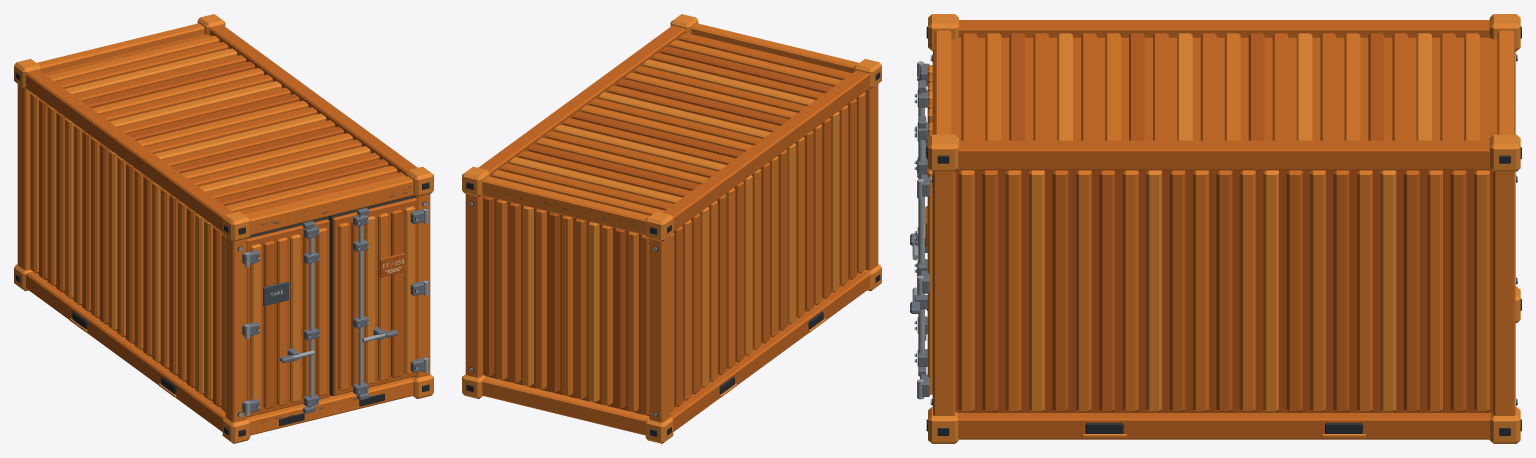
The model's file is wsc-prop-058-shipping-container.glb.
The picture shows the model from 3 angles, left to right: view 1: azimuth 30°, elevation 25°; view 2: azimuth 150°, elevation 25°; view 3: azimuth 270°, elevation 25°; orthographic projection. The views are drawn at different scales.
Parts seen in each view (by area): view 1: orange4, orange, orange3, orange2, steel, bright, deep, gasket, gray; view 2: orange, orange4, orange3, orange2, deep; view 3: orange4, orange, orange2, orange3, steel, bright, deep.
Part boxes in pixels (x1=…): orange4: x1=26, y1=25, x2=417, y2=431; orange: x1=17, y1=23, x2=430, y2=435; orange3: x1=14, y1=14, x2=433, y2=443; orange2: x1=37, y1=61, x2=405, y2=407; steel: x1=242, y1=207, x2=424, y2=413; bright: x1=238, y1=202, x2=428, y2=416; deep: x1=15, y1=72, x2=429, y2=436; gasket: x1=247, y1=195, x2=414, y2=395; gray: x1=263, y1=281, x2=288, y2=305; orange: x1=465, y1=23, x2=878, y2=435; orange4: x1=478, y1=25, x2=869, y2=431; orange3: x1=462, y1=14, x2=881, y2=443; orange2: x1=483, y1=46, x2=858, y2=415; deep: x1=466, y1=72, x2=880, y2=436; orange4: x1=927, y1=20, x2=1497, y2=439; orange: x1=927, y1=30, x2=1515, y2=415; orange2: x1=925, y1=33, x2=1492, y2=412; orange3: x1=927, y1=14, x2=1520, y2=443; steel: x1=910, y1=63, x2=929, y2=396; bright: x1=912, y1=55, x2=1517, y2=404; deep: x1=916, y1=26, x2=1521, y2=435.
Size of the model in its own units: 2.44 by 2.54 by 4.7.
